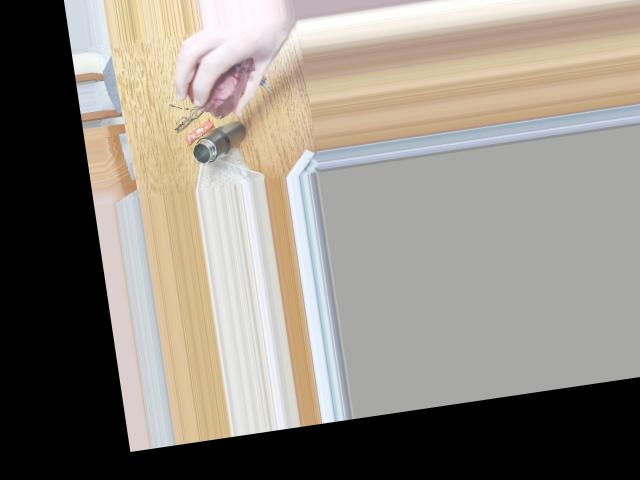onion: (184, 54, 265, 117)
